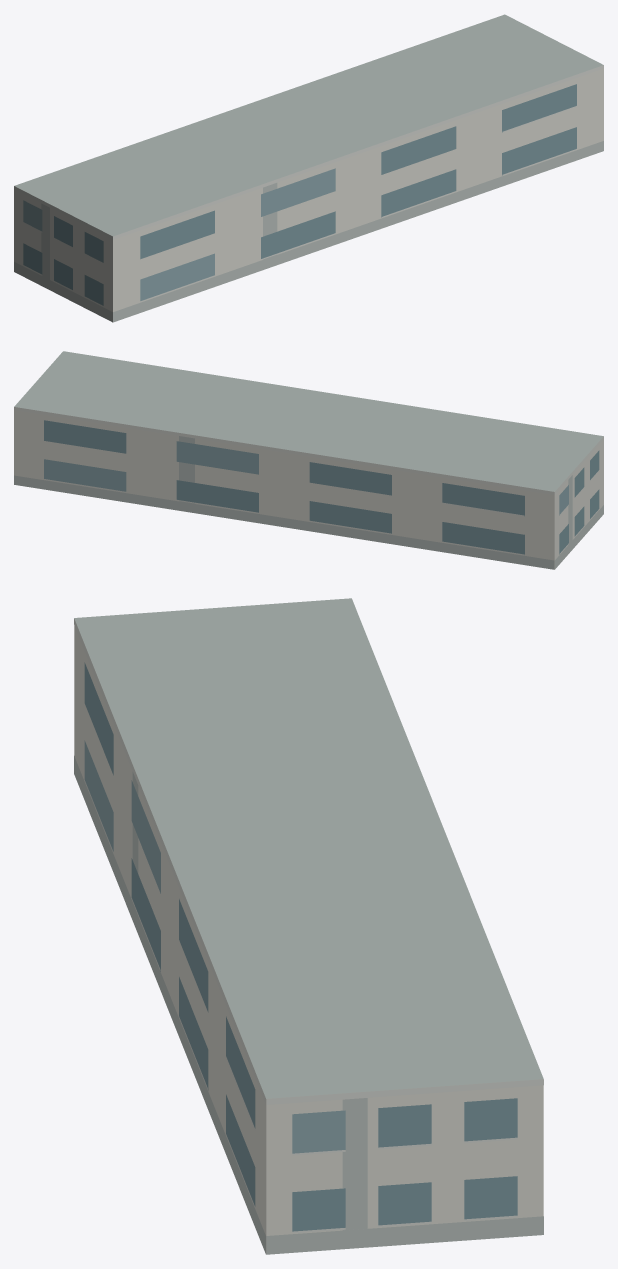
File: residential-85a74188-95a7-41b1-906f-979a9cc2a13e.glb
The picture shows the model from 3 angles, top to bottom: view 1: azimuth 30°, elevation 25°; view 2: azimuth 150°, elevation 25°; view 3: azimuth 270°, elevation 25°; orthographic projection. The views are drawn at different scales.
Visible parts, largest first — view 1: residential-85a74188-95a7-41b1-906f-979a9cc2a13e.tmp; view 2: residential-85a74188-95a7-41b1-906f-979a9cc2a13e.tmp; view 3: residential-85a74188-95a7-41b1-906f-979a9cc2a13e.tmp.
Boxes of the visible parts, bbox=[...] form: residential-85a74188-95a7-41b1-906f-979a9cc2a13e.tmp: bbox=[14, 14, 603, 322]; residential-85a74188-95a7-41b1-906f-979a9cc2a13e.tmp: bbox=[14, 351, 603, 569]; residential-85a74188-95a7-41b1-906f-979a9cc2a13e.tmp: bbox=[74, 598, 543, 1254].
Size of the model in its own units: 42.04 by 6.1 by 16.68.
